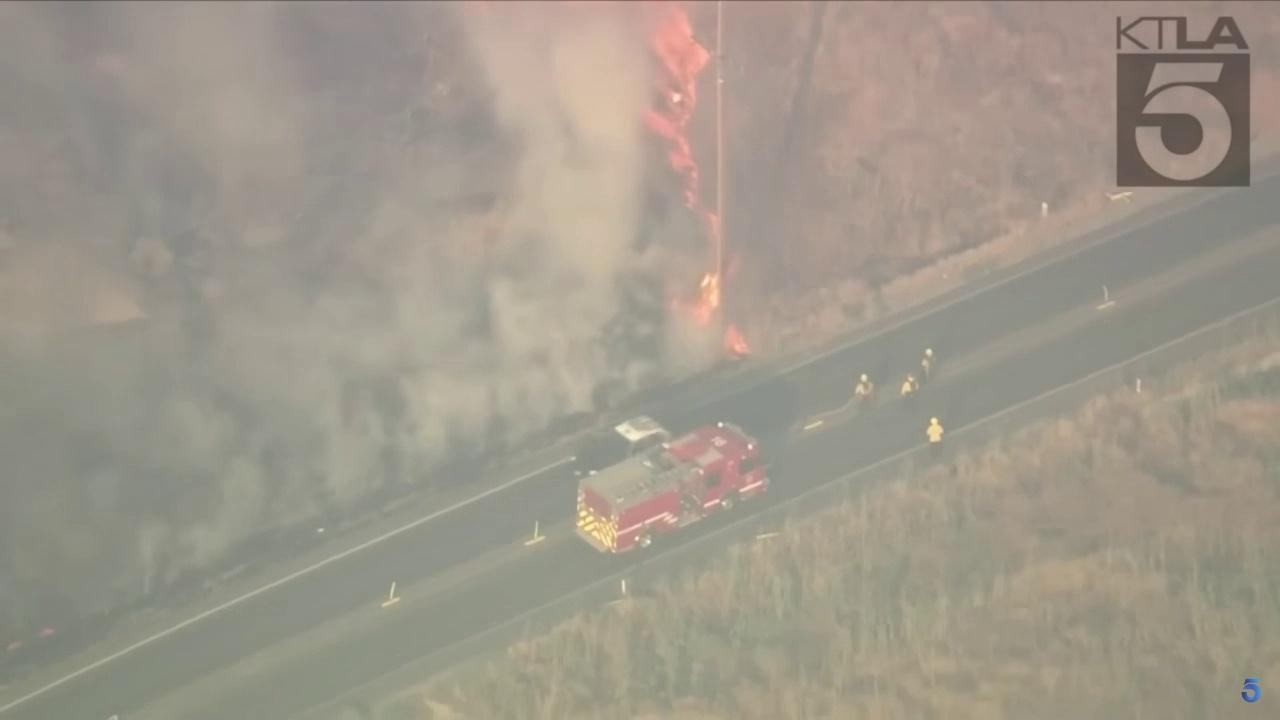fire: (635, 8, 711, 209), (671, 210, 725, 328), (722, 323, 750, 356), (36, 625, 58, 637)
smoke: (0, 0, 715, 614)
